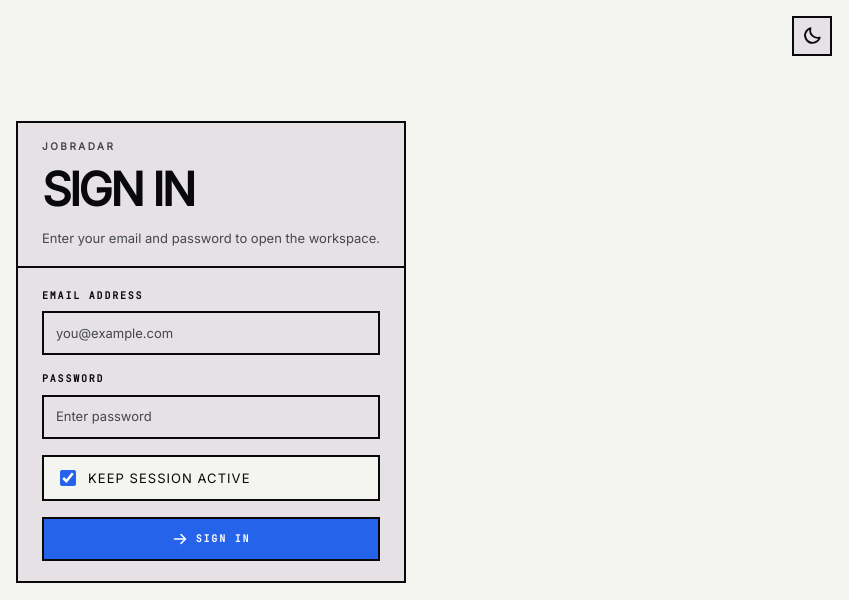
Test: Login › submit button shows loading state during login
Type "alice@example.com" into the field with placeholder "you@example.com" at (211, 333), box top-left (42, 311), bottom-right (380, 355)
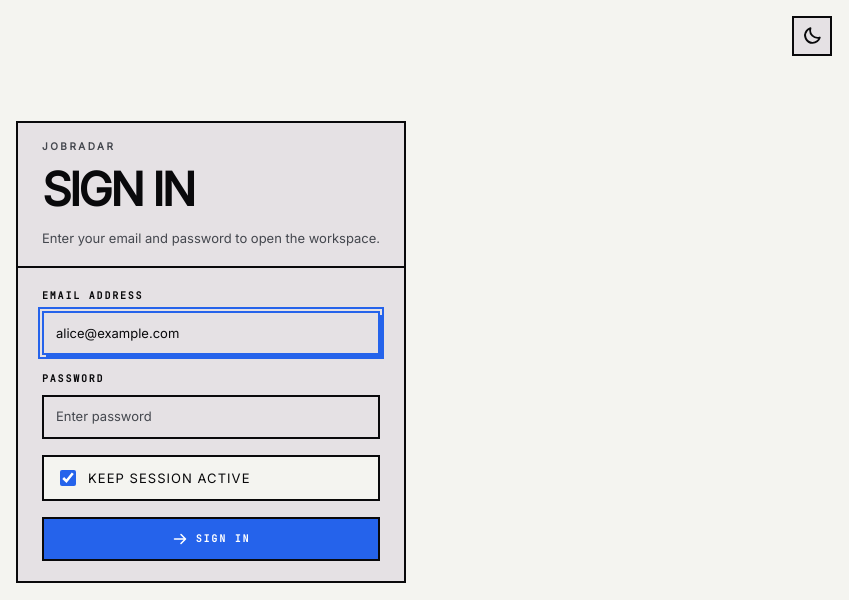
Type "secret" into the password field with placeholder "Enter password" at (211, 417), box top-left (42, 395), bottom-right (380, 439)
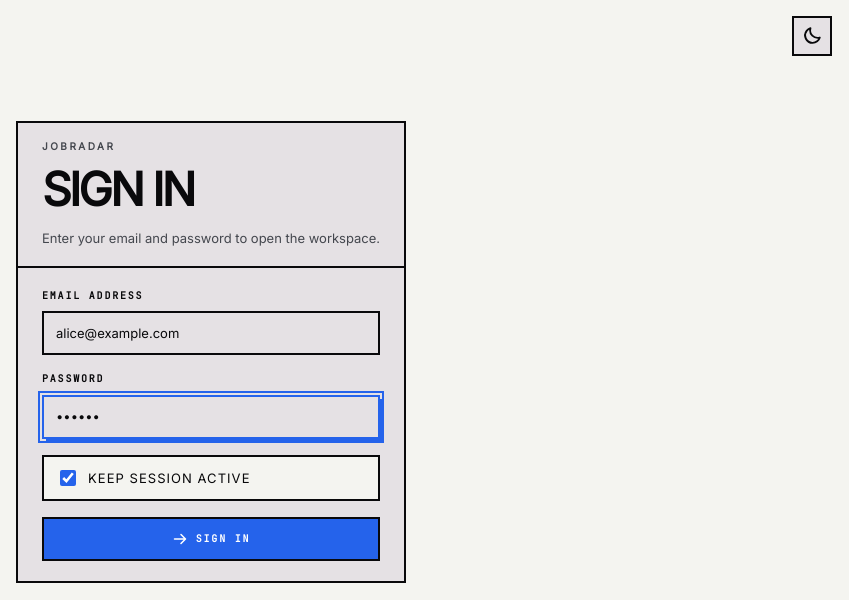
Click the button "Sign in" at (211, 539), box top-left (42, 517), bottom-right (380, 561)
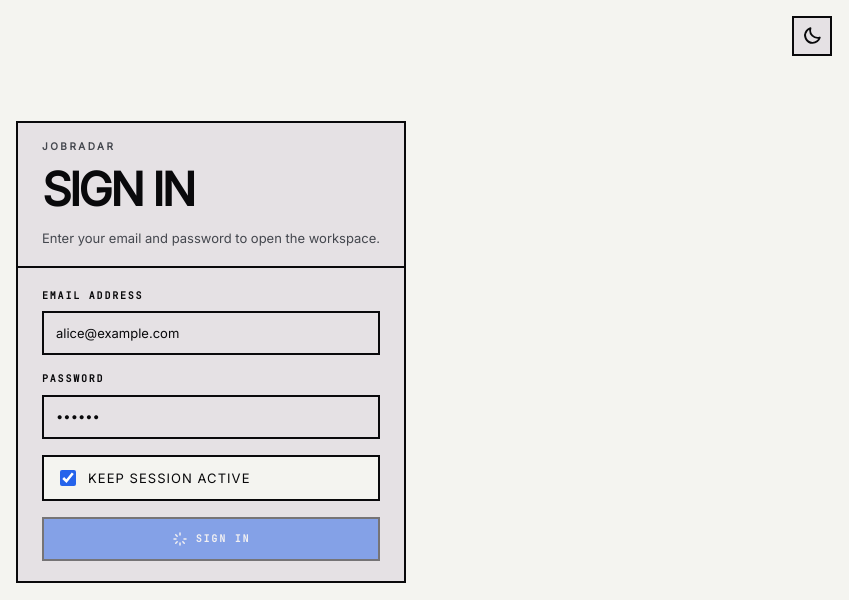
Now the button "Sign in" is disabled, box top-left (42, 517), bottom-right (380, 561)
